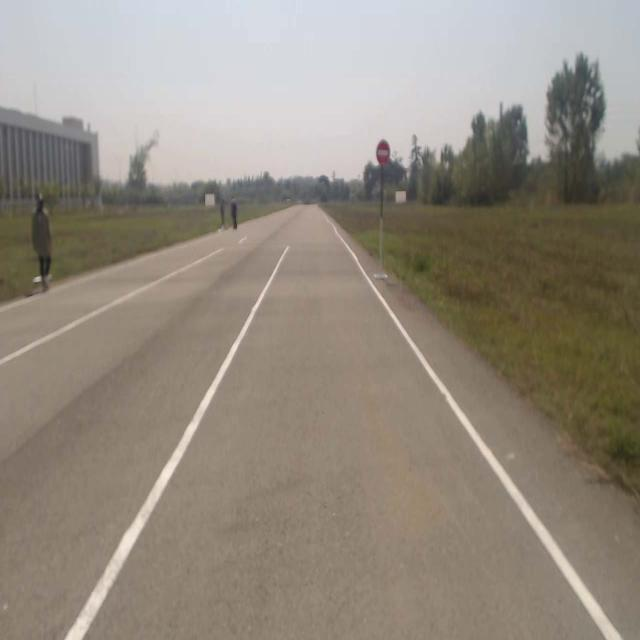girisyok: (376, 139, 390, 164)
